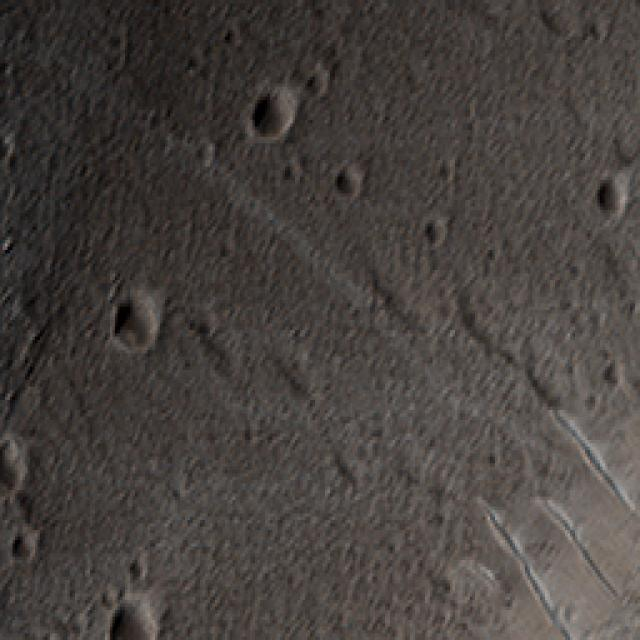Crater: (212, 27, 360, 170), (92, 263, 178, 357), (88, 553, 178, 640), (0, 420, 38, 523)
